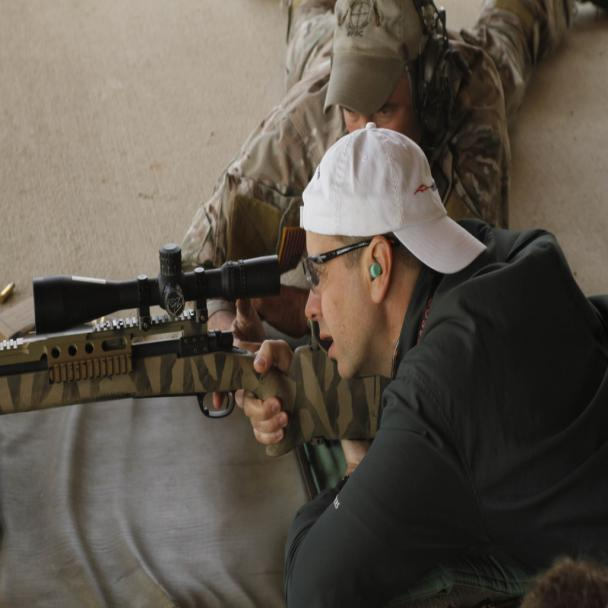Gun: (0, 220, 324, 465)
Hand: (228, 329, 304, 469)
